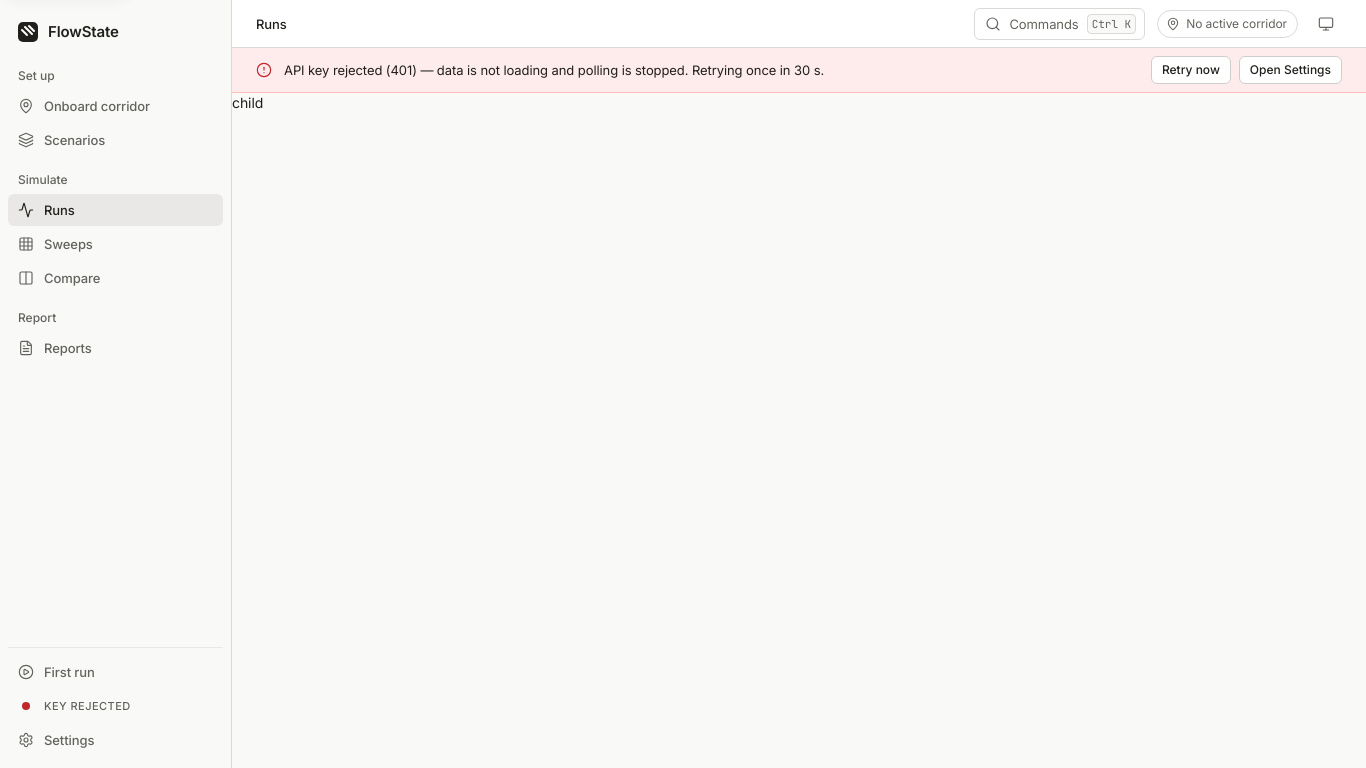
Test case: Layout connection status › offers a Retry that clears the latch without a reload
What coordinates should you click on to do the following:
click the button "Retry now"
I would click on:
 (1191, 70)
Its box is [1151,56,1231,84].
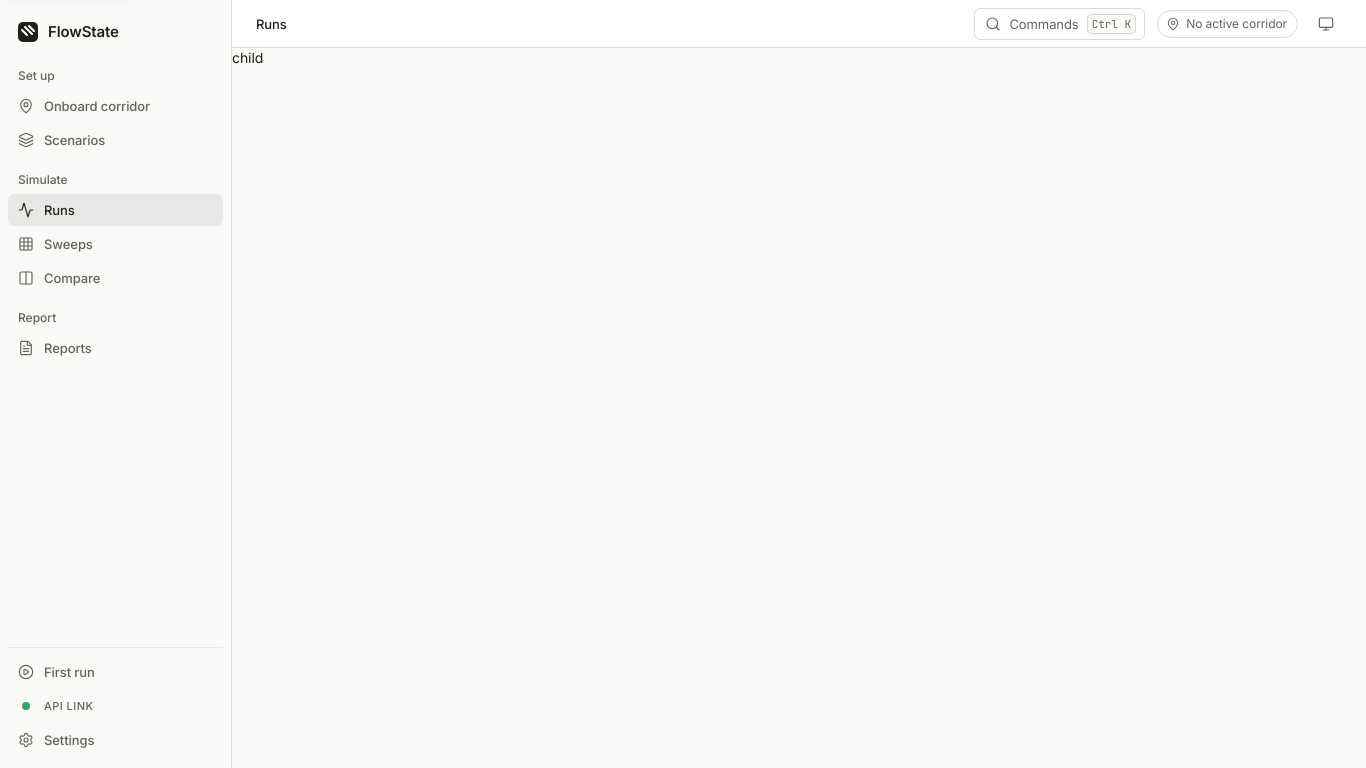
Result: the message is gone
Result: the text "KEY REJECTED" is gone
Result: the text "API LINK" is shown at [44,698,93,714]
